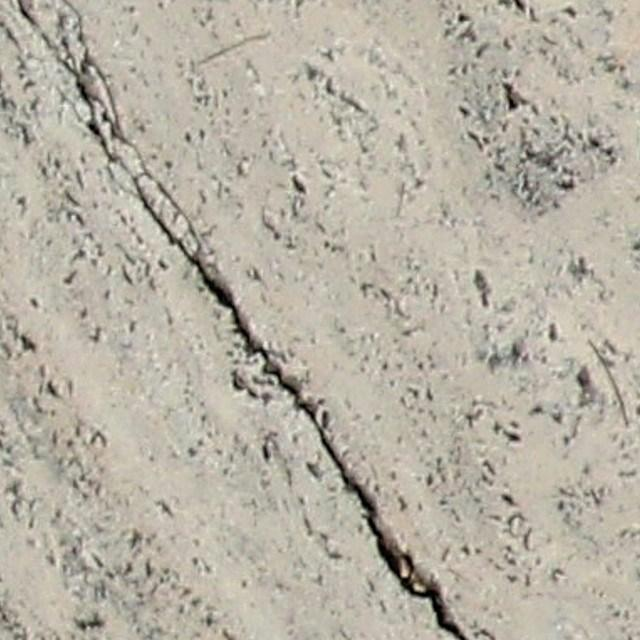diagonal crack: (0, 0, 472, 640)
